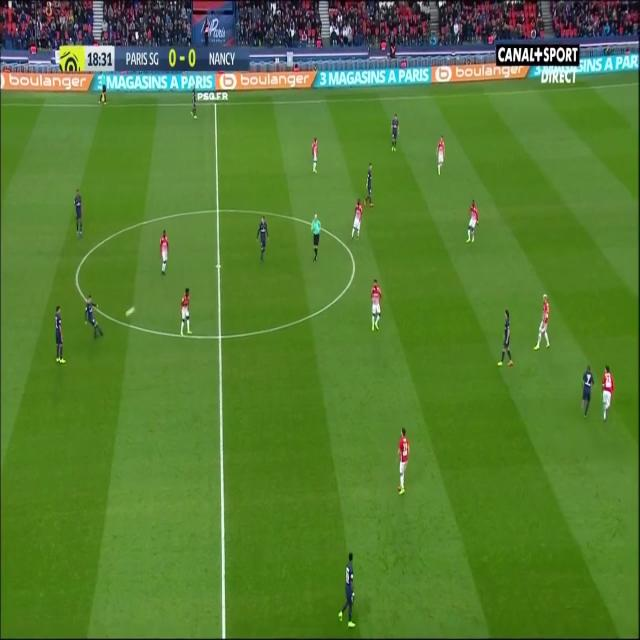Ball: (122, 298, 138, 324)
Player: (335, 550, 359, 632), (531, 289, 554, 356), (394, 421, 412, 501), (82, 289, 106, 347), (495, 307, 515, 369), (176, 284, 195, 340), (253, 213, 272, 264), (368, 274, 384, 334), (580, 362, 596, 419), (601, 361, 615, 424), (464, 196, 481, 246), (54, 302, 66, 368), (157, 228, 171, 284), (348, 196, 364, 244), (434, 133, 450, 181), (364, 158, 377, 212), (73, 184, 85, 240), (308, 133, 322, 178), (388, 111, 402, 156), (188, 80, 200, 124)
Referee: (308, 211, 324, 265), (98, 68, 110, 109)
